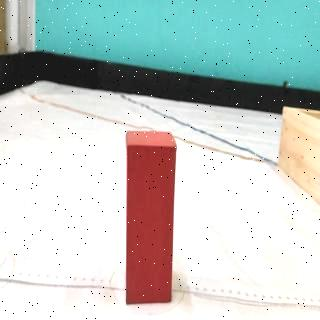redbox: (124, 128, 175, 306)
